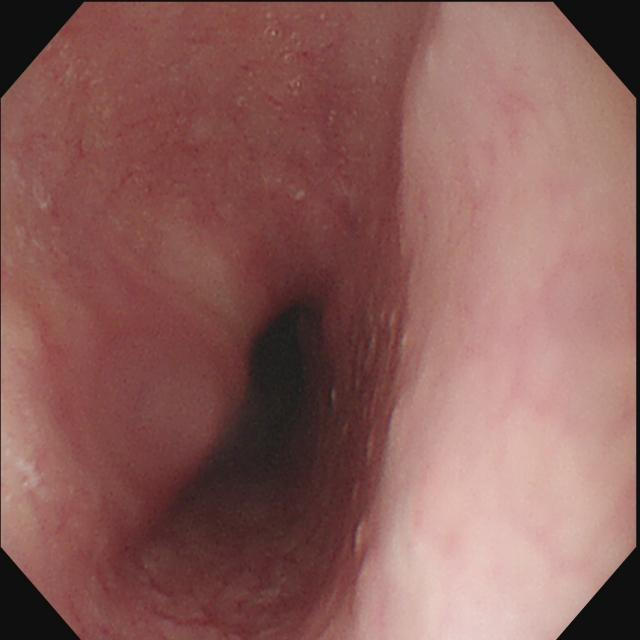E: (247, 309, 321, 474)
J: (2, 449, 46, 506)
